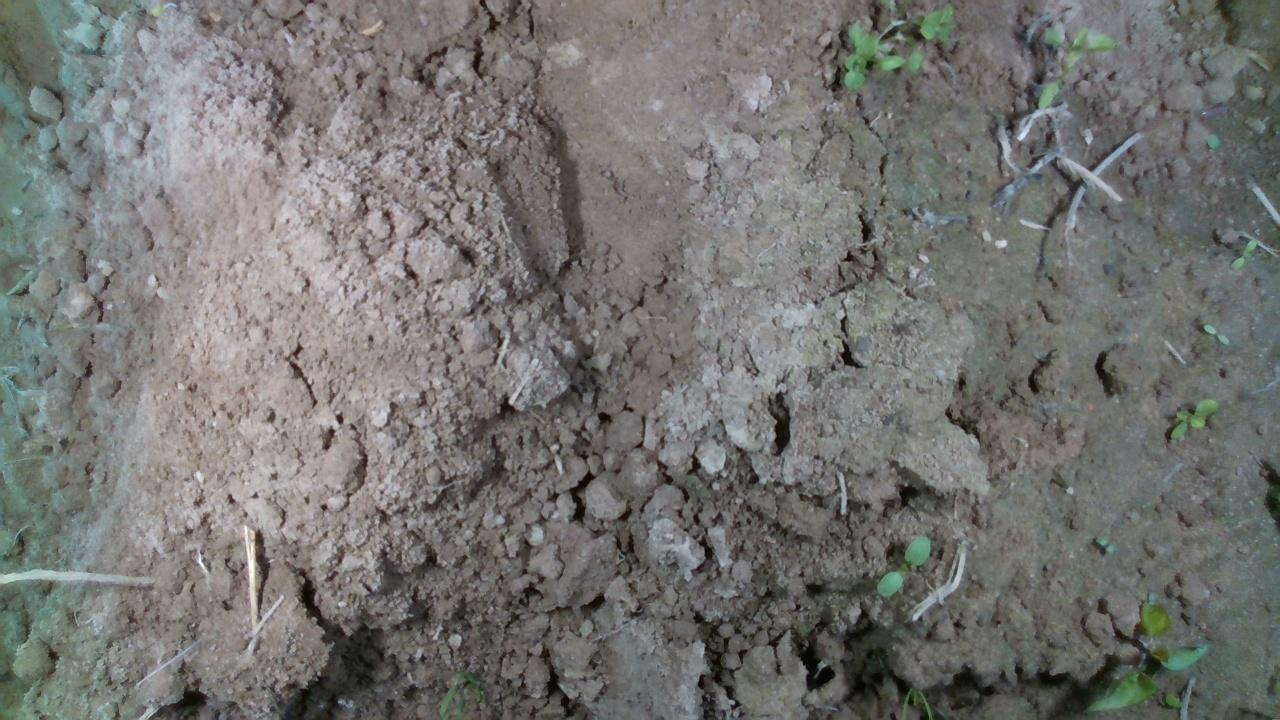weed: (874, 535, 929, 597), (1166, 395, 1219, 441), (1228, 235, 1256, 271)
